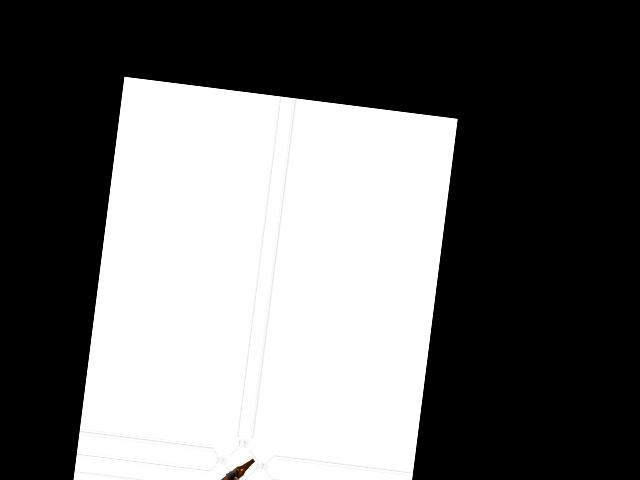beer: (217, 455, 254, 480)
